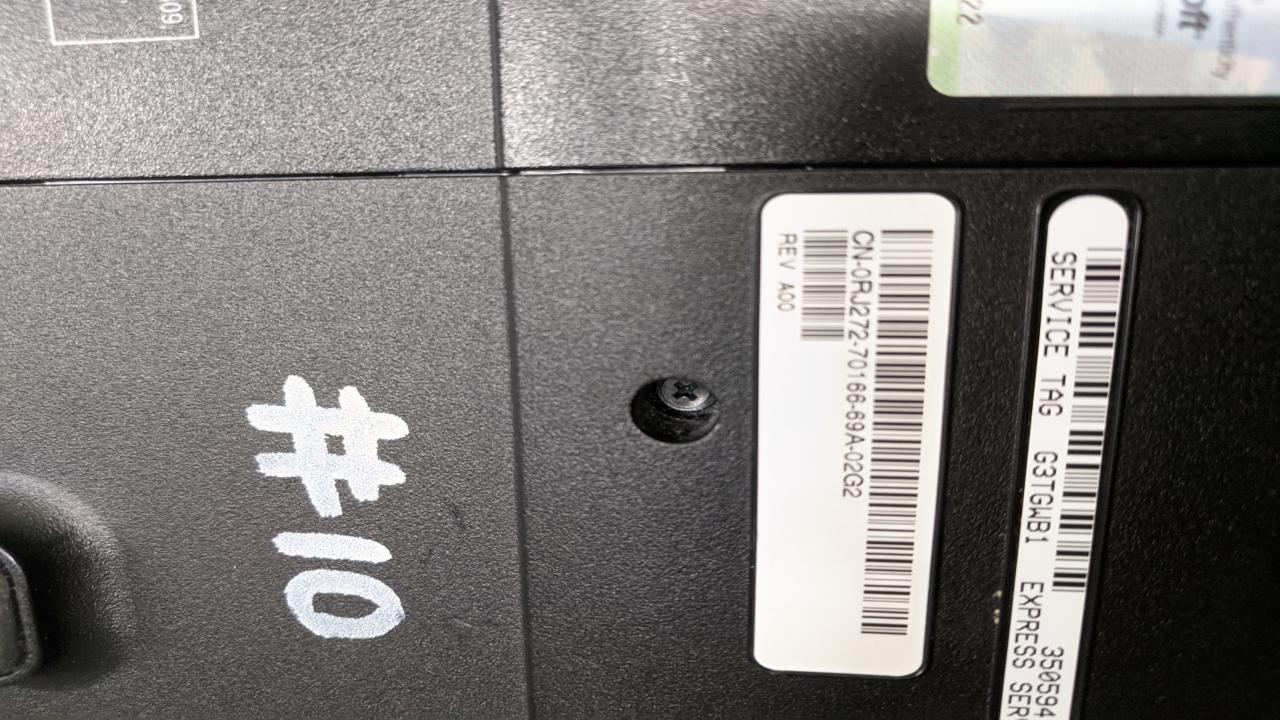CRS: (654, 369, 724, 415)
